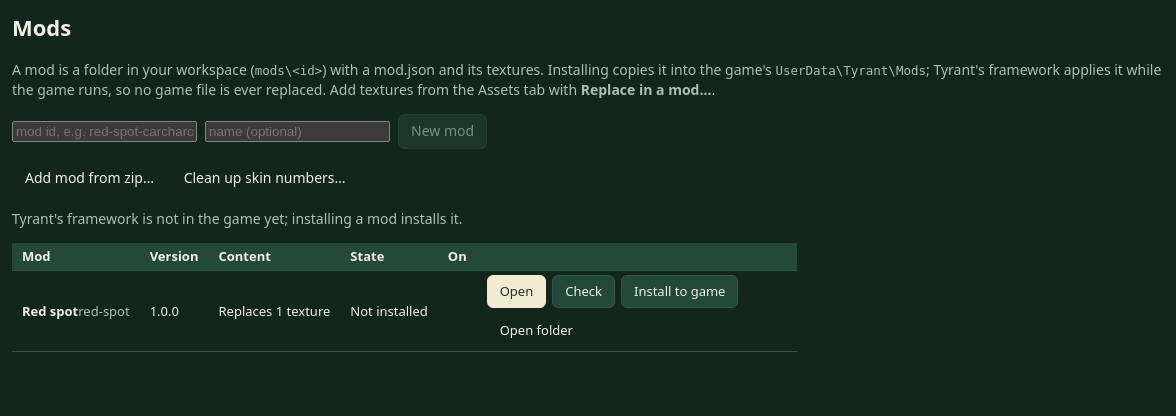
Test: ModsView › shows check results under the mod
This screenshot has width=1176, height=416.
Step 1. Click the button with aria-label "Check Red spot" → [584, 292], box [552,275,615,308]
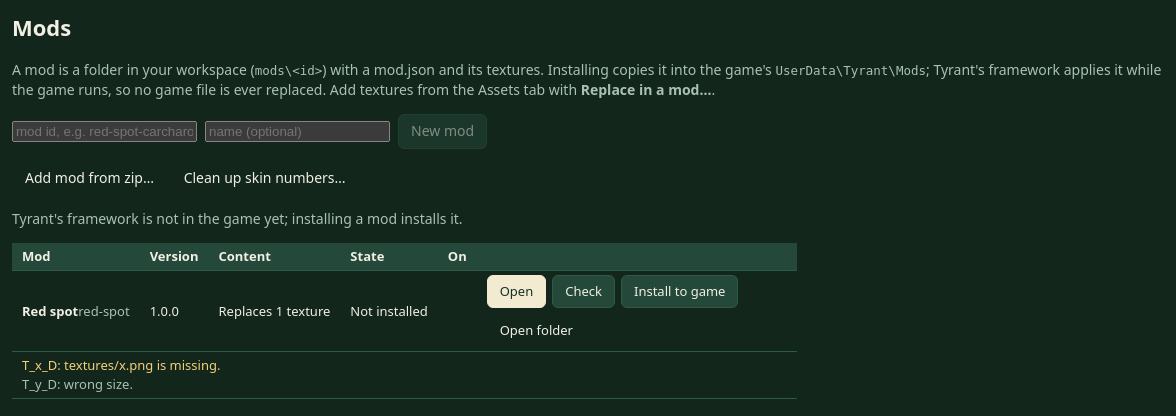
Expected: the text "T_x_D: textures/x.png is missing." is shown, [22,356,220,374]
Expected: the text "T_y_D: wrong size." is shown, [22,375,133,393]
